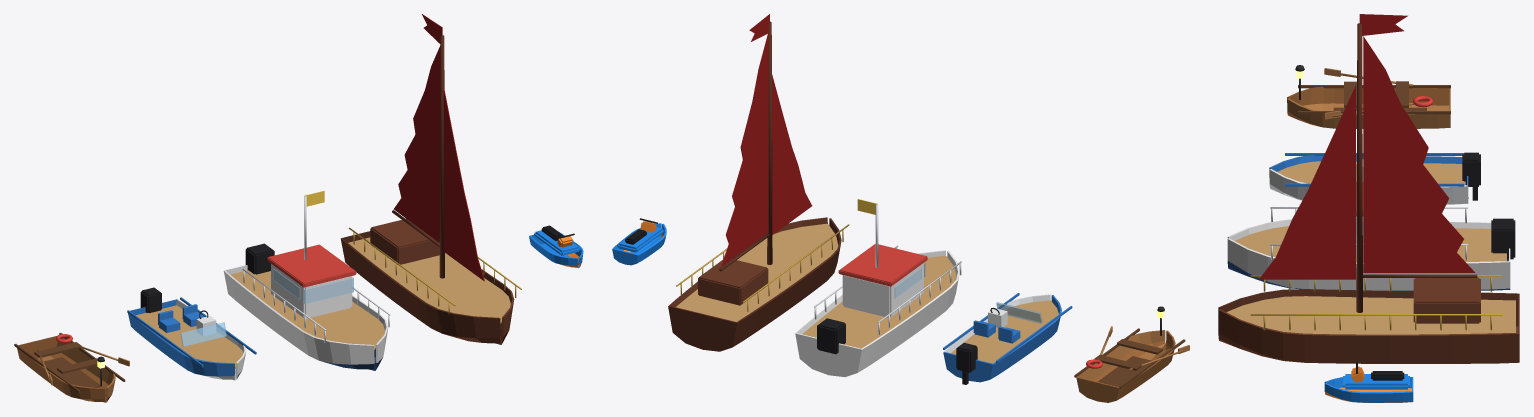
Rendered from boats.glb.
The picture shows the model from 3 angles, left to right: view 1: azimuth 30°, elevation 25°; view 2: azimuth 150°, elevation 25°; view 3: azimuth 270°, elevation 25°; orthographic projection. The views are drawn at different scales.
Visible parts, largest first — view 1: boat_sail, boat_cruiser, boat_motor, boat_row, boat_jetski; view 2: boat_sail, boat_cruiser, boat_motor, boat_row, boat_jetski; view 3: boat_sail, boat_cruiser, boat_row, boat_motor, boat_jetski.
Boxes of the visible parts, x1,y1,x2,y2 form: boat_sail: [340, 14, 521, 344]; boat_cruiser: [223, 191, 390, 370]; boat_motor: [127, 287, 256, 380]; boat_row: [14, 333, 129, 402]; boat_jetski: [529, 225, 583, 268]; boat_sail: [668, 14, 849, 351]; boat_cruiser: [795, 199, 961, 376]; boat_motor: [943, 293, 1072, 384]; boat_row: [1074, 306, 1189, 402]; boat_jetski: [612, 218, 666, 265]; boat_sail: [1218, 14, 1519, 363]; boat_cruiser: [1227, 181, 1515, 291]; boat_row: [1287, 65, 1450, 128]; boat_motor: [1269, 152, 1480, 204]; boat_jetski: [1324, 362, 1413, 402].
Bounding box in the file's own units: 40.02 × 20.22 × 16.17.
